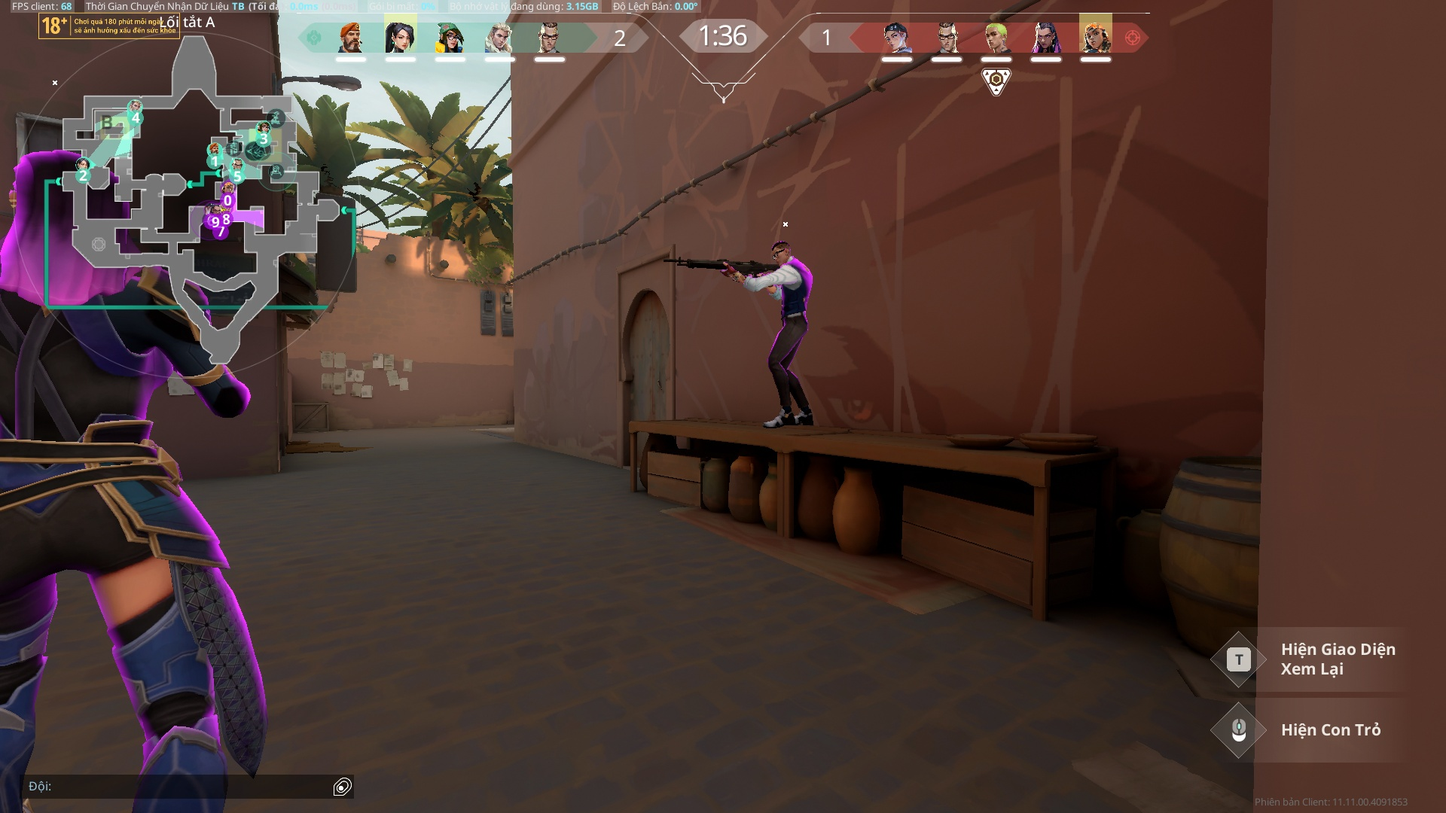body: (3, 244, 177, 450), (775, 260, 813, 315)
head: (2, 145, 130, 263), (770, 242, 792, 262)
